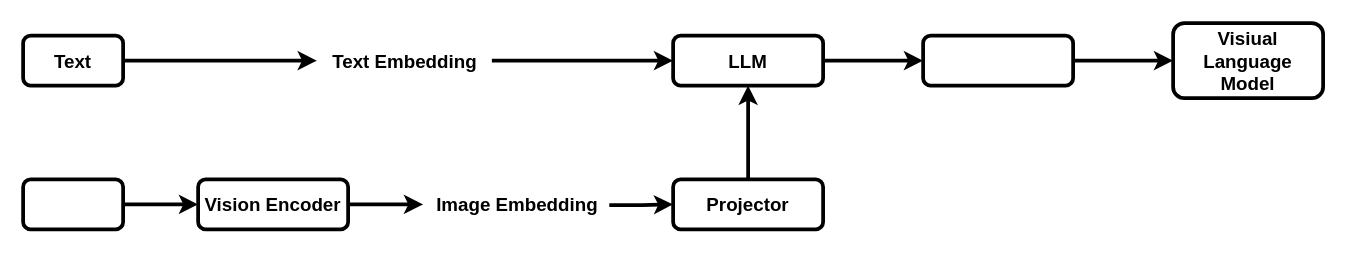
The diagram is 1346 pixels wide and 253 high, and some of its shapes have lost their labels. The box of each missing label's shape, as (x1, y1, x2, y2) in pixels:
Image: (21, 177, 124, 231)
Pre-Training Objectives: (921, 33, 1074, 87)
